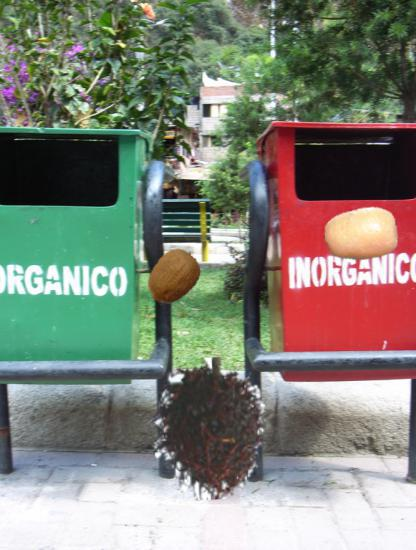Kiwi: (145, 247, 205, 307)
Kumquats: (324, 197, 400, 273)
Rambutan: (134, 358, 276, 500)
